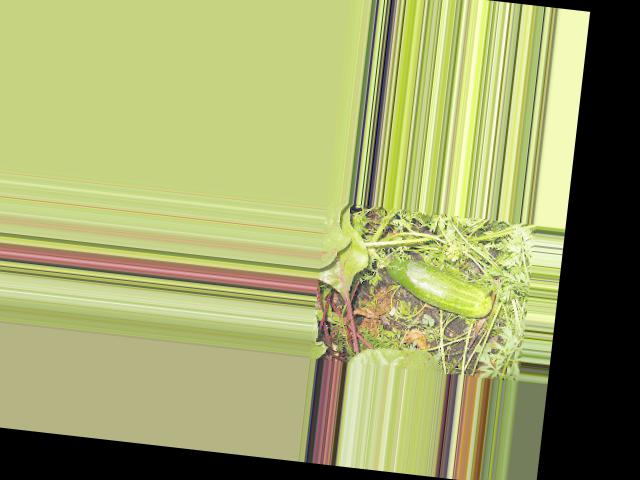cucumber: (381, 253, 494, 319)
